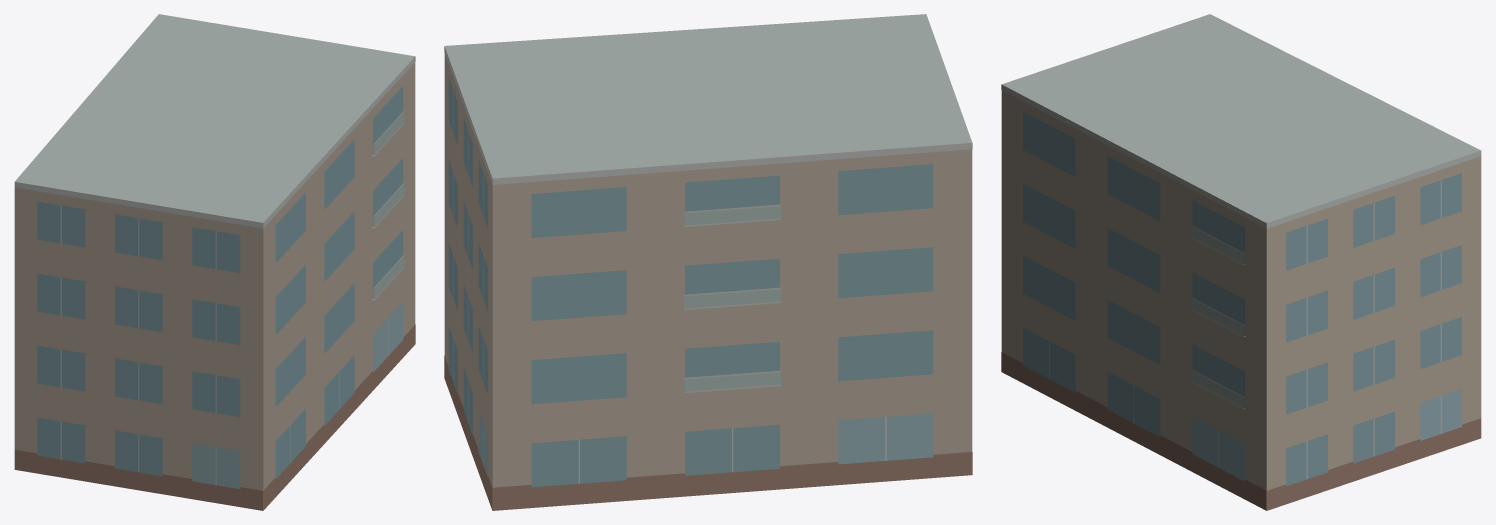
Rendered from survey-upis-32816443.glb.
3 renders of one model, left to right at view 1: azimuth 30°, elevation 25°; view 2: azimuth 150°, elevation 25°; view 3: azimuth 270°, elevation 25°, orthographic. The views are drawn at different scales.
Visible parts, largest first — view 1: survey-upis-32816443.tmp; view 2: survey-upis-32816443.tmp; view 3: survey-upis-32816443.tmp.
Boxes of the visible parts, x1,y1,x2,y2 form: survey-upis-32816443.tmp: (14, 14, 415, 510); survey-upis-32816443.tmp: (444, 14, 972, 510); survey-upis-32816443.tmp: (1001, 14, 1481, 510).
Bounding box in the file's own units: 19.66 × 12.6 × 19.06.
